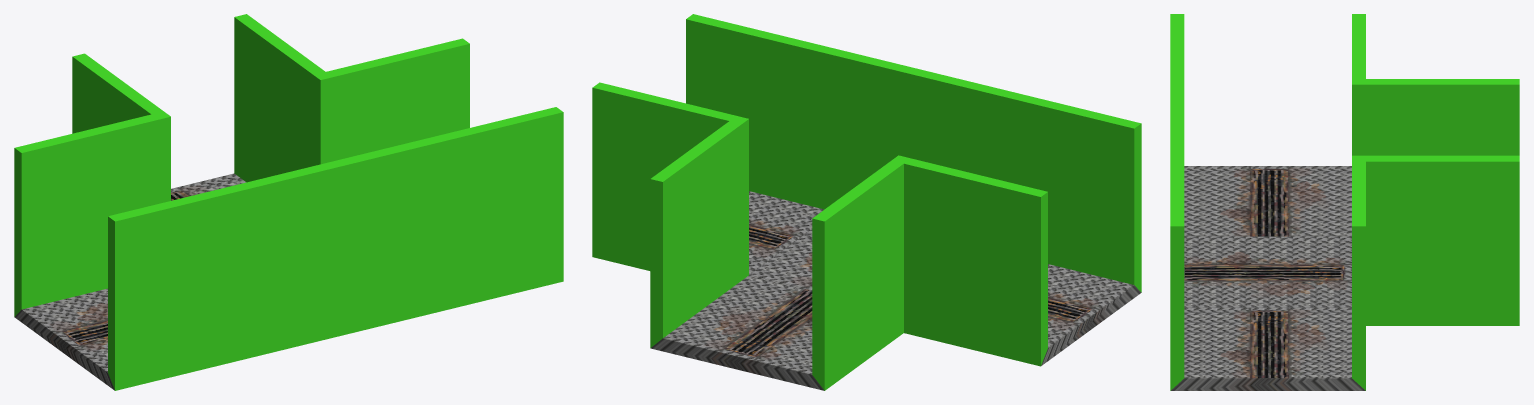
File: Corridor.003.fbx
3 views of the same model, side by side, from view 1: azimuth 30°, elevation 25°; view 2: azimuth 150°, elevation 25°; view 3: azimuth 270°, elevation 25° (orthographic). The views are drawn at different scales.
Parts seen in each view (by area): view 1: Corridor.003; view 2: Corridor.003; view 3: Corridor.003.
Boxes of the visible parts, bbox=[...] form: Corridor.003: bbox=[14, 14, 563, 390]; Corridor.003: bbox=[592, 14, 1141, 390]; Corridor.003: bbox=[1170, 14, 1519, 390].
Bounding box in the file's own units: 1800 × 650 × 1250.
